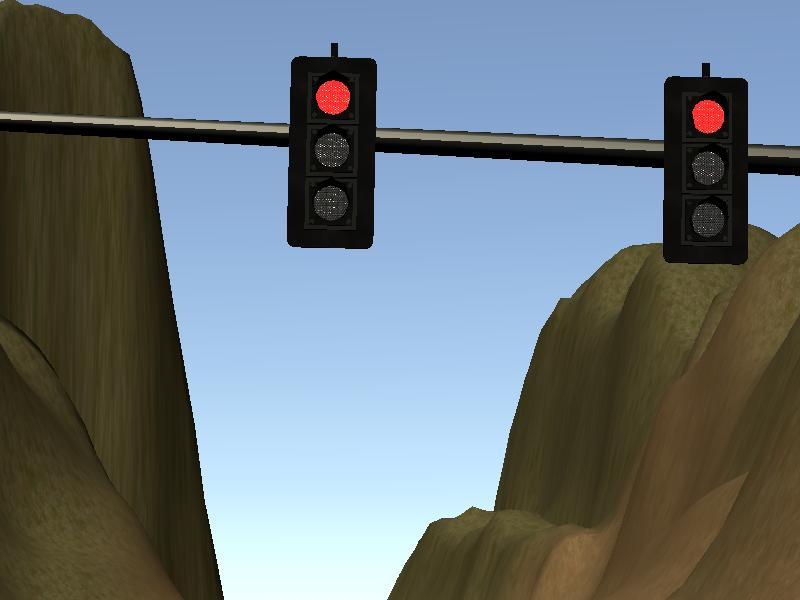red: (288, 53, 375, 249), (664, 74, 747, 264)
